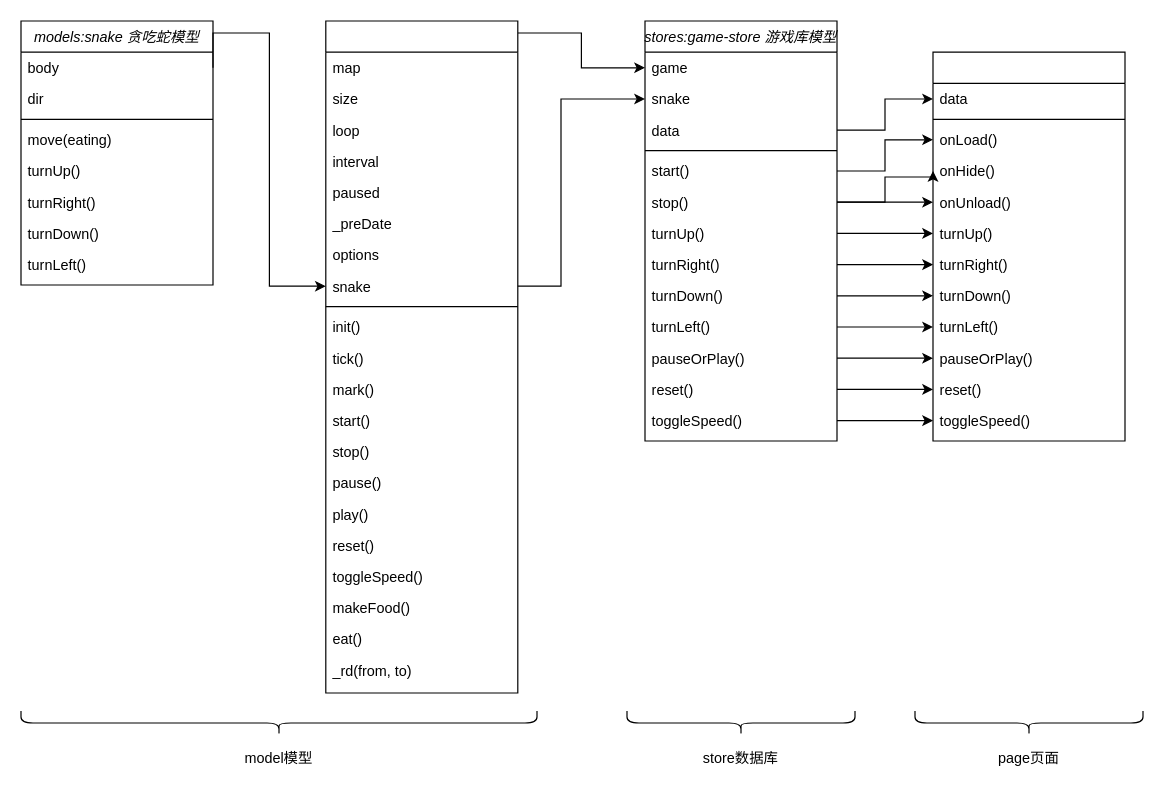
Image size: 1164x798. Some labels were removed from this diagram. Each missing label, with the box of its shape:
models:game 游戏模型: (325, 20, 518, 693)
pages:game 贪财蛇页面: (932, 51, 1125, 441)
